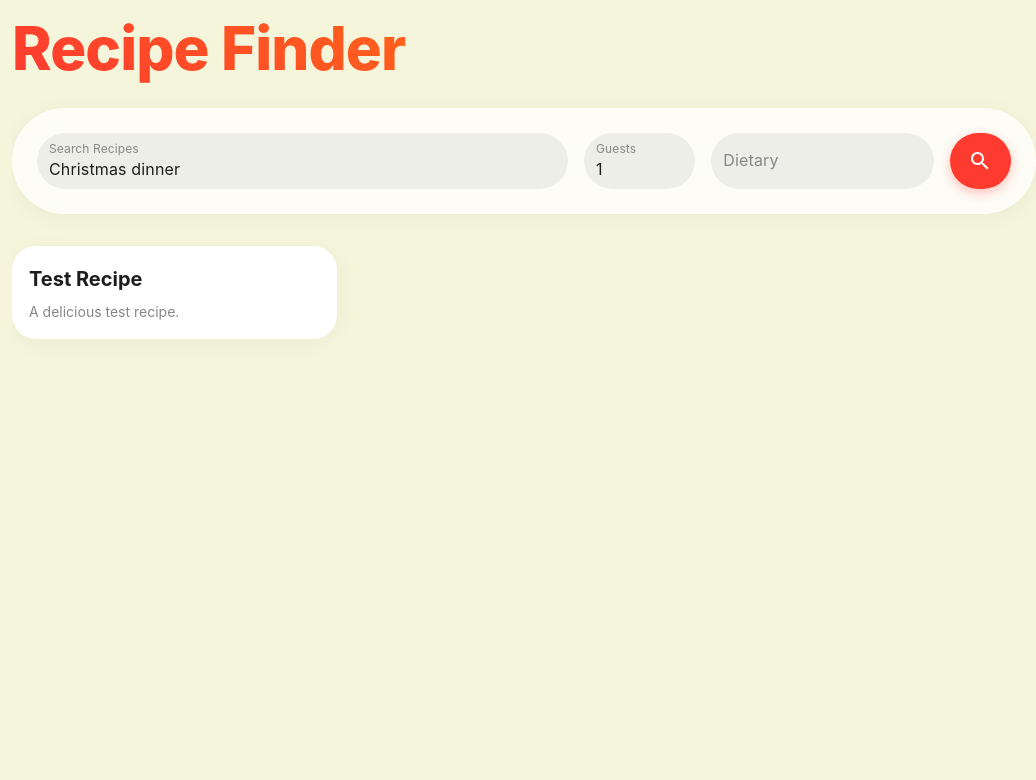
Scenario: RecipeFinder › displays fetched recipes
Check: the text "A delicious test recipe." is shown, box left=29, top=303, right=179, bottom=320
// Click card to view details
Click the heading "Test Recipe".
click(86, 279)  # box left=29, top=267, right=142, bottom=291
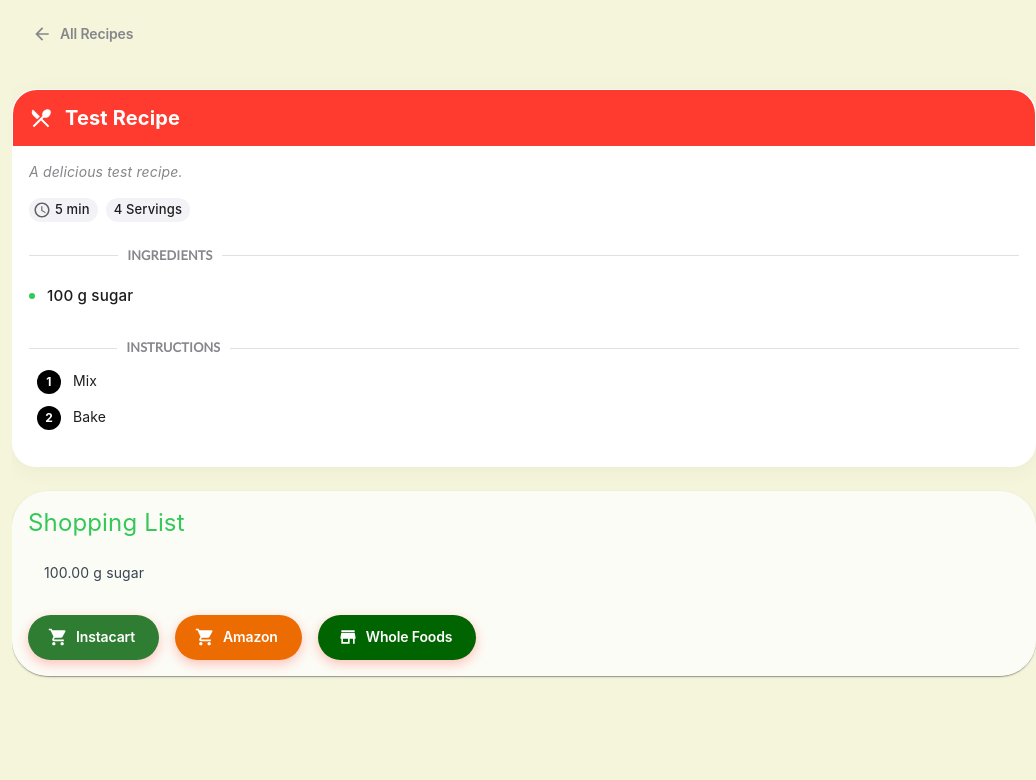
Check: the text "100 g sugar" is shown, box left=47, top=286, right=133, bottom=305
